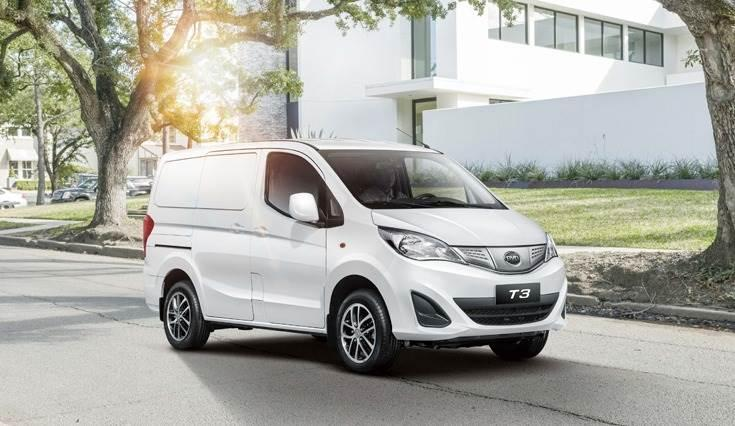van: (141, 138, 567, 376)
